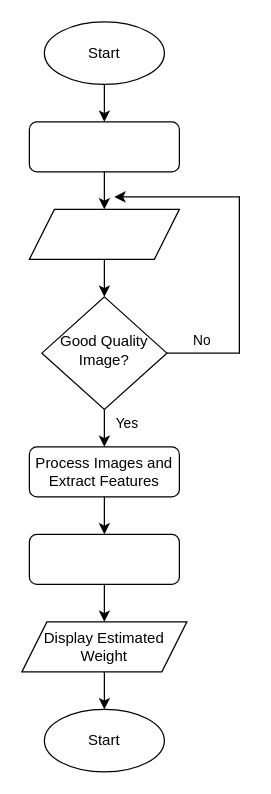
Image size: 271x794. Some labels were removed from this diagram. Here are the shapes that lost their labels. From the top down, the centre of each, then its label:
At (x=103, y=146): "Initialize System".
At (x=103, y=233): "Capture Pig Images".
At (x=103, y=558): "Predict Estimated Weight".
